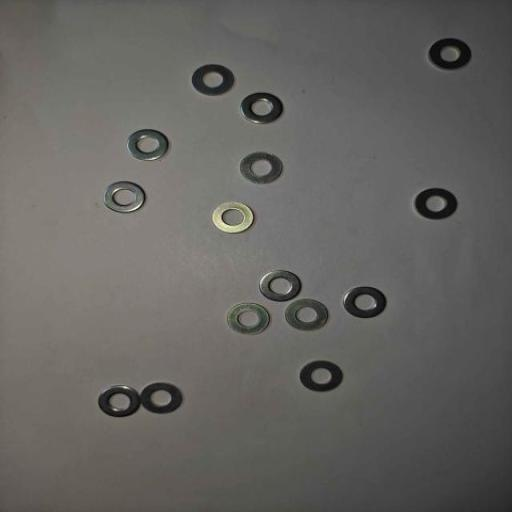Washer: (412, 186, 460, 222), (283, 297, 331, 333), (341, 284, 389, 320), (138, 380, 185, 416), (238, 150, 285, 185), (225, 301, 272, 336), (298, 358, 345, 393), (239, 90, 285, 125), (125, 127, 171, 162), (210, 200, 256, 235), (96, 384, 142, 419), (257, 269, 304, 303), (427, 37, 473, 71), (190, 63, 236, 97), (103, 179, 147, 214)
